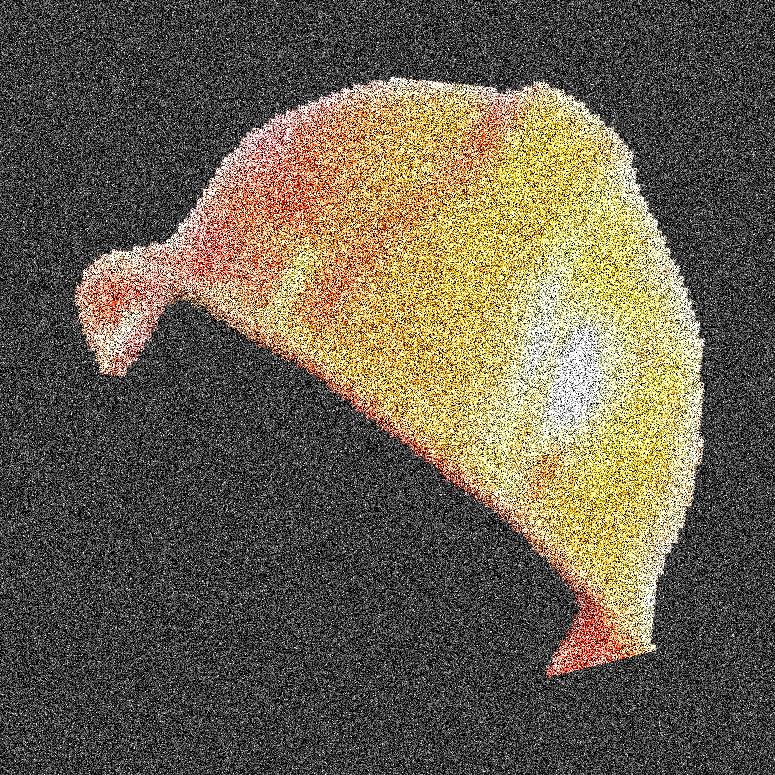Capacete: (523, 0, 774, 774)
